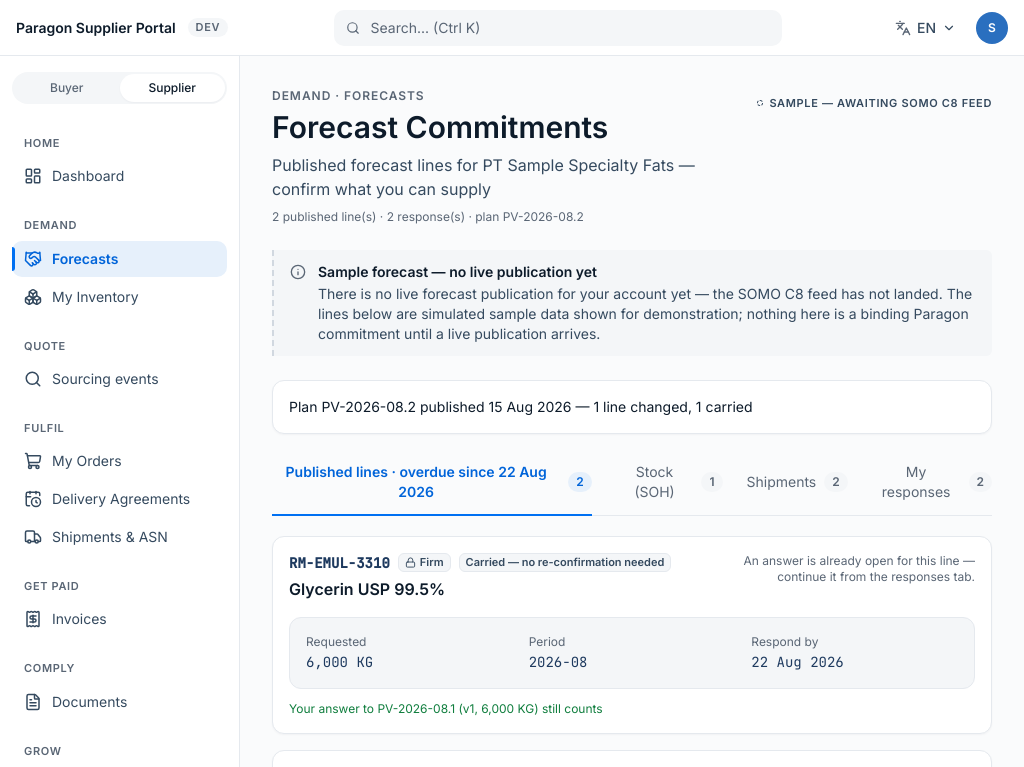
a to-paragon leg — ship and arrive defer to the ASN, cancel does not › ⚠️ SHIP defers on a BOOKED to-paragon leg — the other reason string, in its own slot
Click the tab "Shipments 2": (797, 483) [746, 460, 848, 506]
(page scrolled)
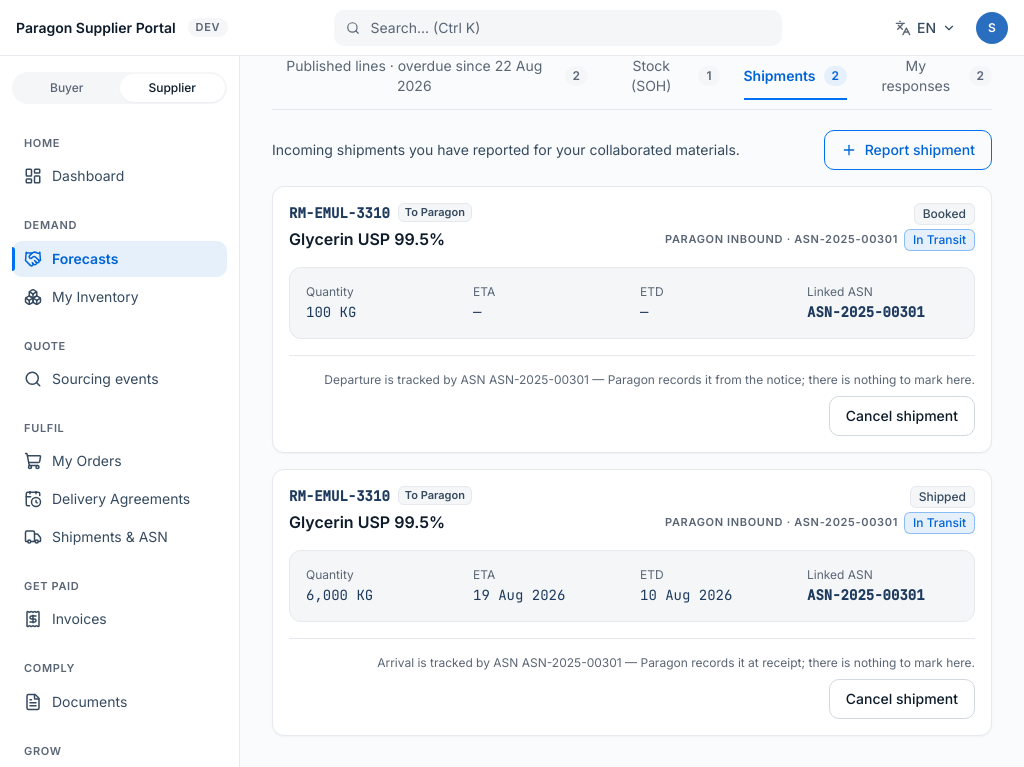
Check: the button "Cancel shipment" below "Booked" is shown, box [829, 396, 975, 436]
